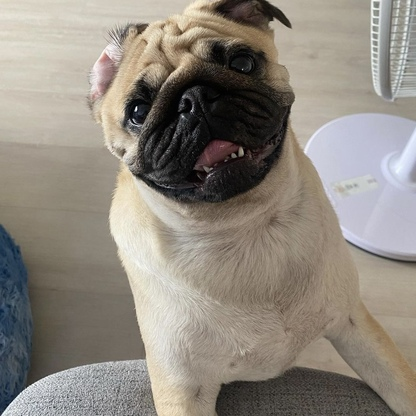Pug: (79, 2, 416, 416)
